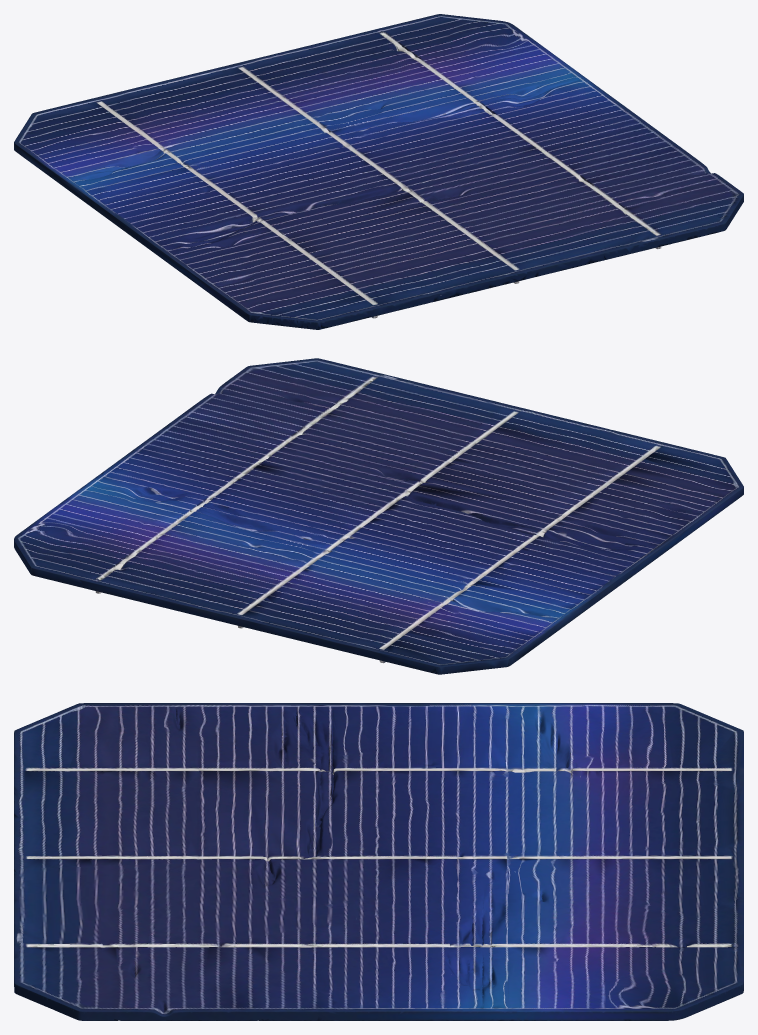
The model's file is wafer.glb.
3 renders of one model, top to bottom at view 1: azimuth 30°, elevation 25°; view 2: azimuth 150°, elevation 25°; view 3: azimuth 270°, elevation 25°, orthographic. The views are drawn at different scales.
Visible parts, largest first — view 1: tripo_node_1e20f1dc-628a-4dc8-b263-c45337b77ab9; view 2: tripo_node_1e20f1dc-628a-4dc8-b263-c45337b77ab9; view 3: tripo_node_1e20f1dc-628a-4dc8-b263-c45337b77ab9.
Part boxes in pixels (bbox=[...]): tripo_node_1e20f1dc-628a-4dc8-b263-c45337b77ab9: bbox=[14, 14, 743, 329]; tripo_node_1e20f1dc-628a-4dc8-b263-c45337b77ab9: bbox=[14, 358, 743, 674]; tripo_node_1e20f1dc-628a-4dc8-b263-c45337b77ab9: bbox=[14, 703, 743, 1020].
Size of the model in its own units: 32039 by 915 by 32035.
Materials: 1 (1 with a texture image).
